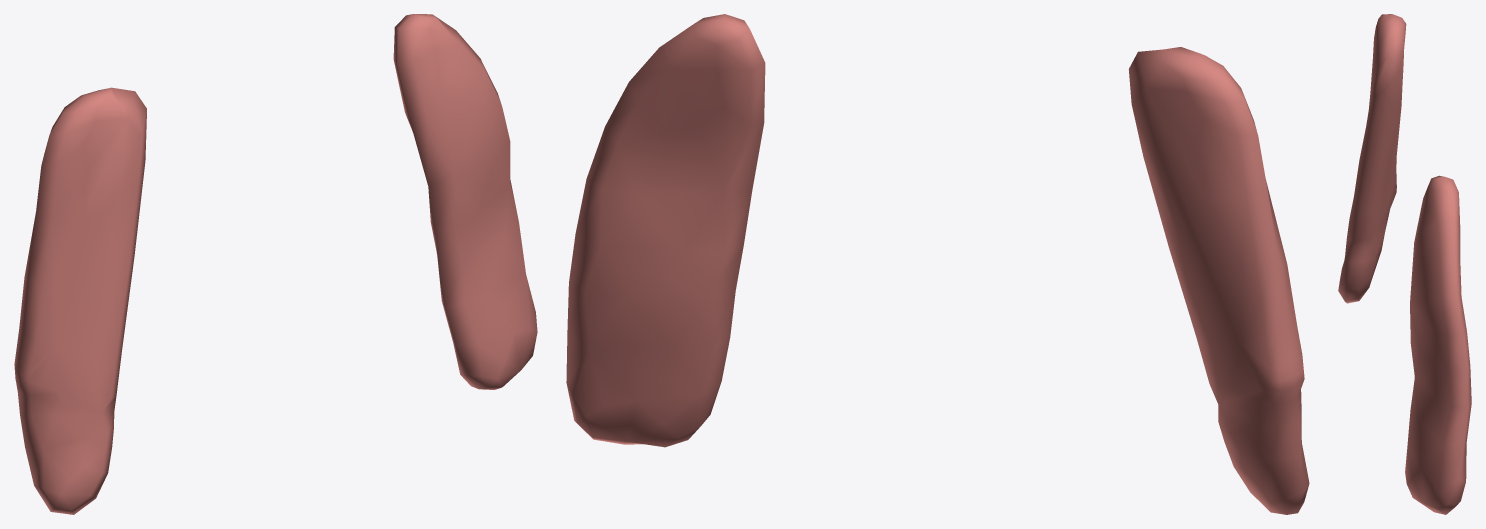
3 views of the same model, side by side, from view 1: azimuth 30°, elevation 25°; view 2: azimuth 150°, elevation 25°; view 3: azimuth 270°, elevation 25° (orthographic). The views are drawn at different scales.
Parts seen in each view (by area): view 1: ZA_eccf599d2fb741ef; view 2: ZA_eccf599d2fb741ef; view 3: ZA_eccf599d2fb741ef.
Part boxes in pixels (x1=…): ZA_eccf599d2fb741ef: x1=14, y1=14, x2=537, y2=514; ZA_eccf599d2fb741ef: x1=566, y1=14, x2=1309, y2=514; ZA_eccf599d2fb741ef: x1=1338, y1=14, x2=1471, y2=514.
Size of the model in its own units: 0.00788 by 0.00554 by 0.00206.
